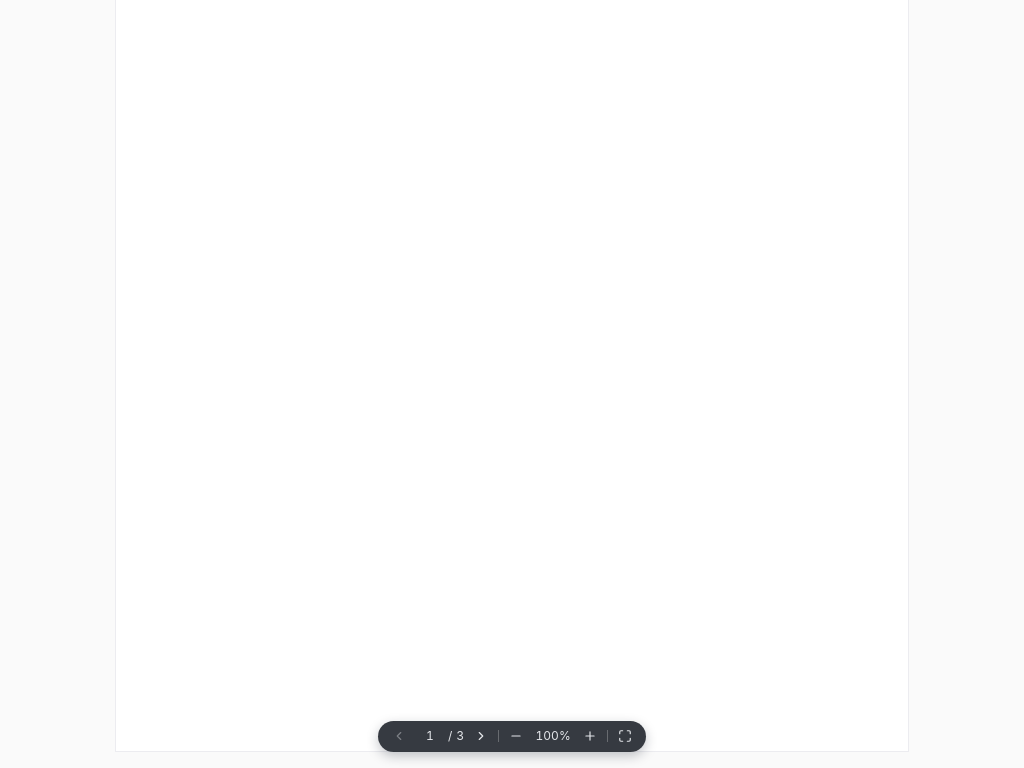
Test: HwpxViewer › 범위 밖 페이지를 입력하면 현재 페이지로 복원한다
(page scrolled)
Replace the text in the field with test id "hwpx-page-input" with "99" at x=430, y=736, box left=416, top=728, right=444, bottom=744
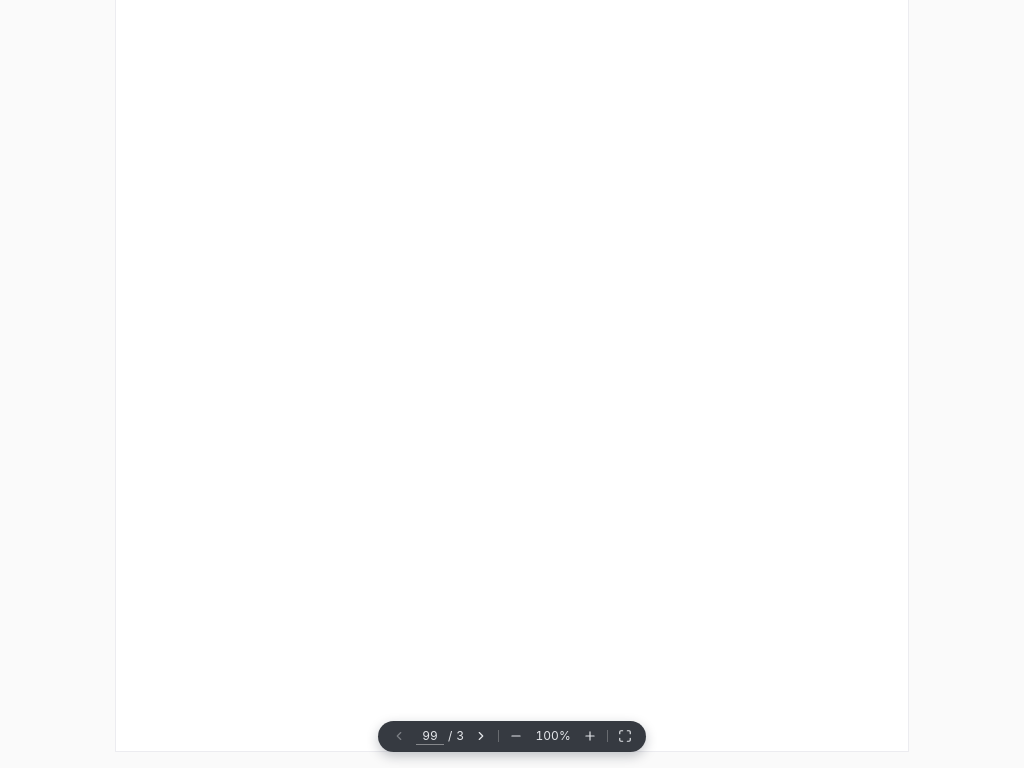
Press Enter
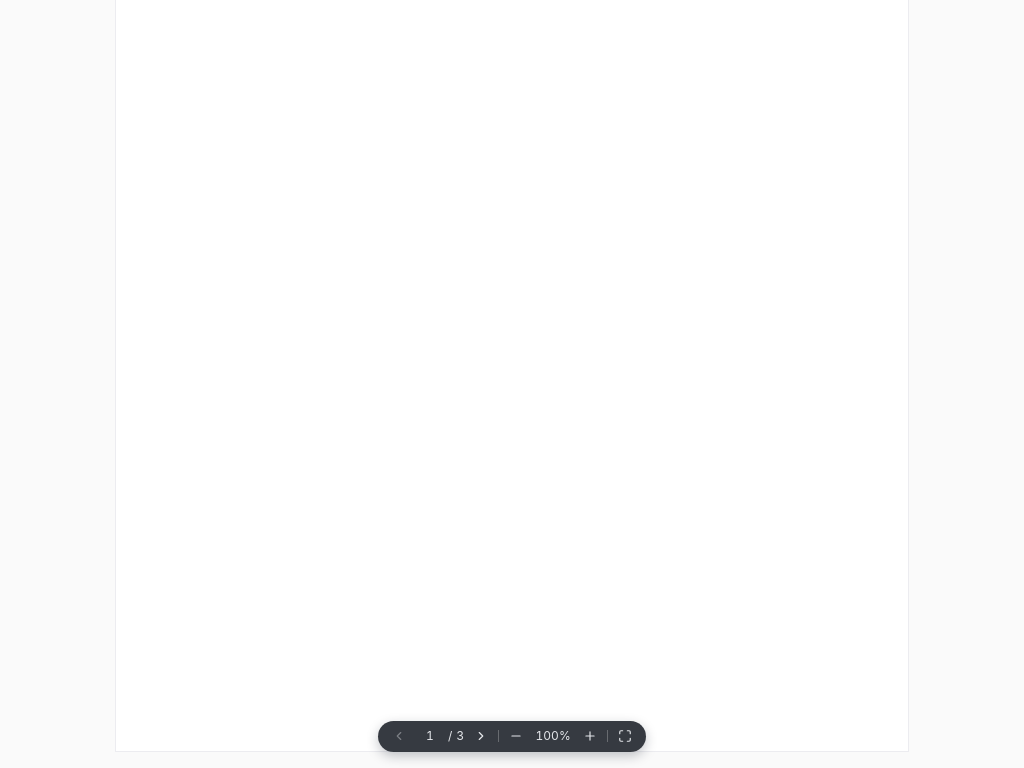
Now the field with test id "hwpx-page-input" holds "1", box left=416, top=728, right=444, bottom=744
